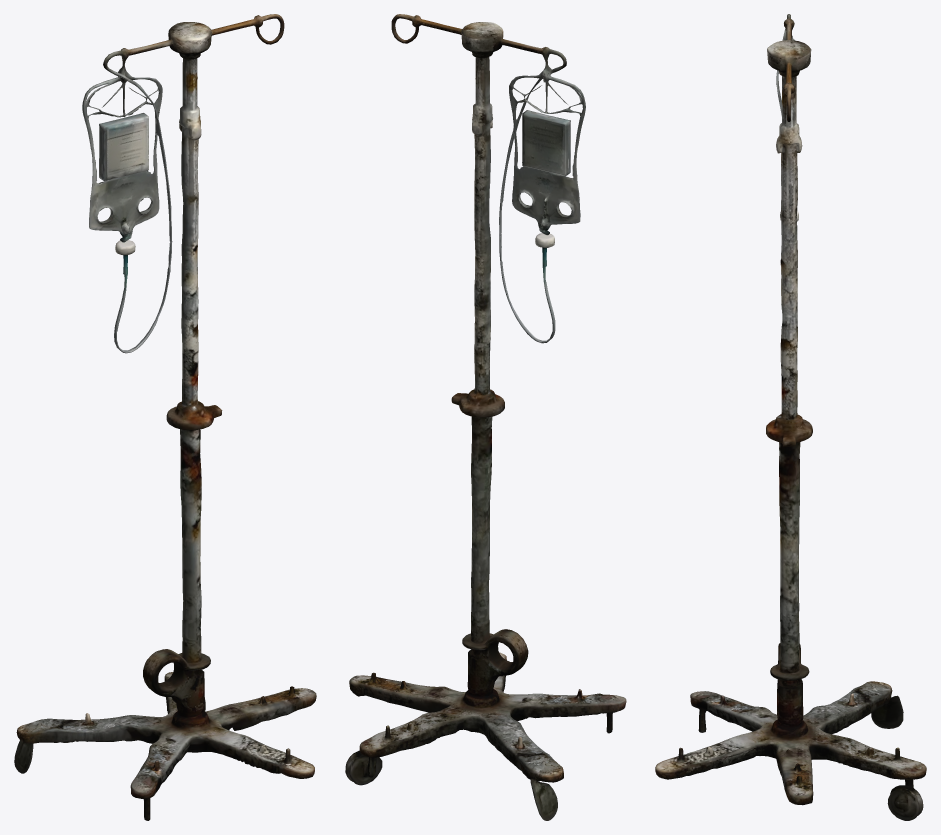
File: iv_stand.glb
3 renders of one model, left to right at view 1: azimuth 30°, elevation 25°; view 2: azimuth 150°, elevation 25°; view 3: azimuth 270°, elevation 25°, orthographic. The views are drawn at different scales.
Parts seen in each view (by area): view 1: tripo_node_aa5ebc52-348a-47b0-b790-718b31e7f944; view 2: tripo_node_aa5ebc52-348a-47b0-b790-718b31e7f944; view 3: tripo_node_aa5ebc52-348a-47b0-b790-718b31e7f944.
Part boxes in pixels (left/top/right/bottom): tripo_node_aa5ebc52-348a-47b0-b790-718b31e7f944: left=14, top=14, right=316, bottom=820; tripo_node_aa5ebc52-348a-47b0-b790-718b31e7f944: left=345, top=14, right=626, bottom=820; tripo_node_aa5ebc52-348a-47b0-b790-718b31e7f944: left=655, top=14, right=926, bottom=820.
Bounding box in the file's own units: 0.3568 × 0.9999 × 0.332.
1 material, 1 textured.
